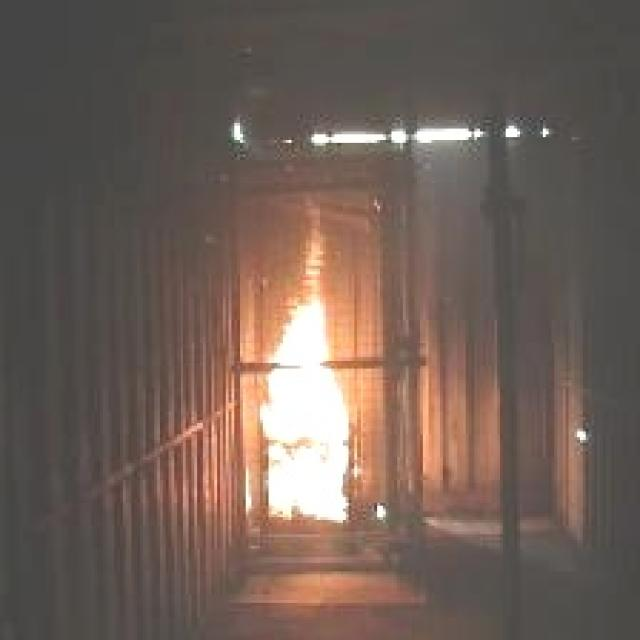fire: (246, 279, 366, 527)
